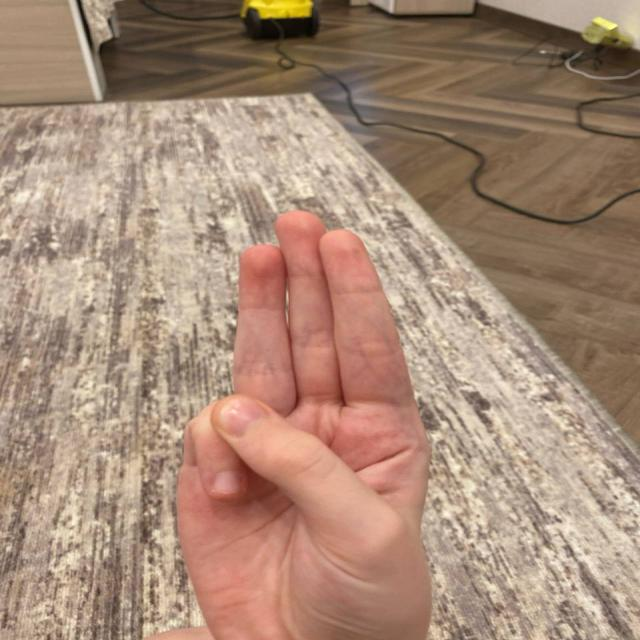sh: (176, 223, 482, 575)
